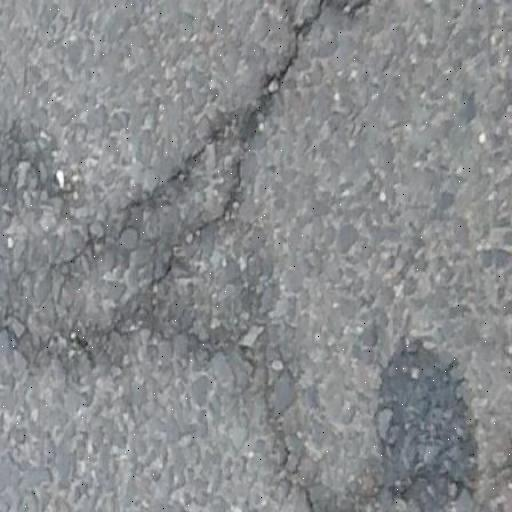spalling: (59, 0, 340, 294), (251, 368, 325, 508)
